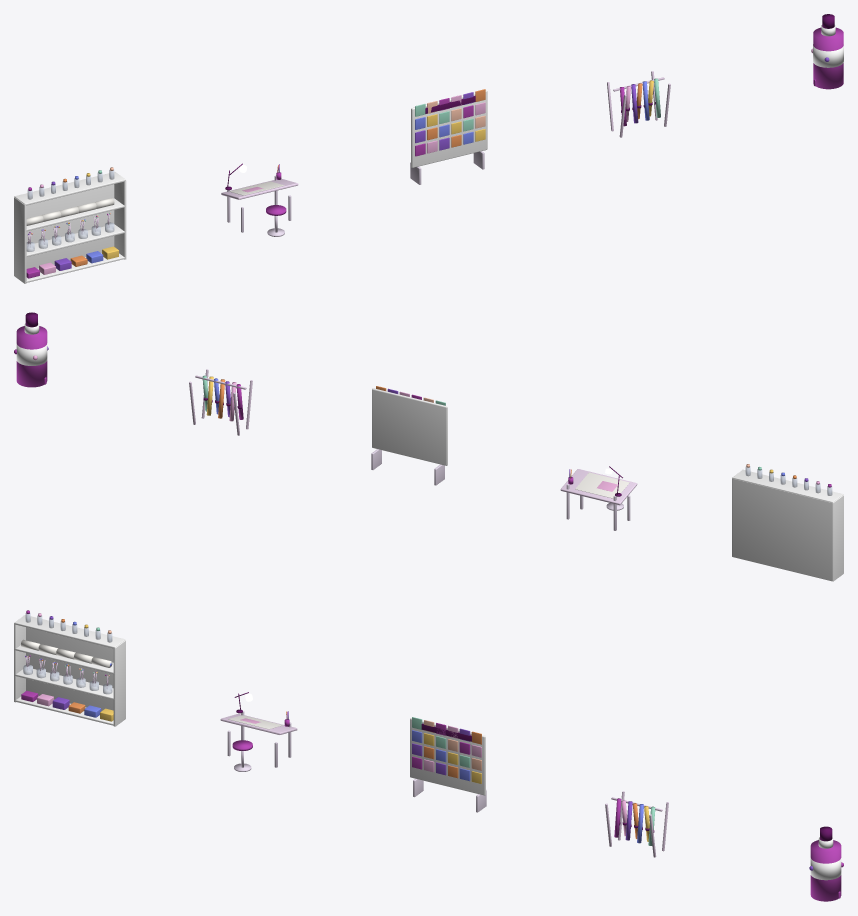
The model's file is creative_b.glb.
The picture shows the model from 3 angles, top to bottom: view 1: azimuth 30°, elevation 25°; view 2: azimuth 150°, elevation 25°; view 3: azimuth 330°, elevation 25°; orthographic projection.
Parts seen in each view (by area): view 1: ShelfBack, Board, TubeBody, Board3, ShelfSide, Board1, ShelfSide.001, Board2, TubeLabel; view 2: ShelfBack, Board, TubeBody, Board3, ShelfSide, TableTop, Sheet, TubeLabel; view 3: ShelfBack, Board, TubeBody, Board3, ShelfSide.001, Board1, ShelfSide, Board2.
Part boxes in pixels (box(x1,y1,x2,y2)): ShelfBack: box(26, 184, 114, 268); Board: box(411, 90, 487, 167); TubeBody: box(813, 27, 843, 89); Board3: box(14, 172, 125, 205); ShelfSide: box(14, 197, 26, 283); Board1: box(25, 224, 125, 256); ShelfSide.001: box(114, 180, 126, 259); Board2: box(26, 198, 125, 231); TubeLabel: box(813, 44, 843, 67); ShelfBack: box(732, 478, 832, 581); Board: box(372, 388, 447, 465); TubeBody: box(16, 326, 47, 387); Board3: box(732, 469, 843, 502); ShelfSide: box(832, 495, 843, 581); TableTop: box(560, 469, 637, 505); Sheet: box(575, 472, 629, 498); TubeLabel: box(16, 343, 47, 365); ShelfBack: box(26, 627, 113, 710); Board: box(410, 718, 485, 795); TubeBody: box(810, 840, 841, 901); Board3: box(14, 615, 125, 648); ShelfSide.001: box(113, 640, 125, 726); Board1: box(14, 669, 114, 699); ShelfSide: box(14, 623, 25, 702); Board2: box(14, 645, 114, 674).
Size of the model in its own units: 26.07 by 2.74 by 1.68.
